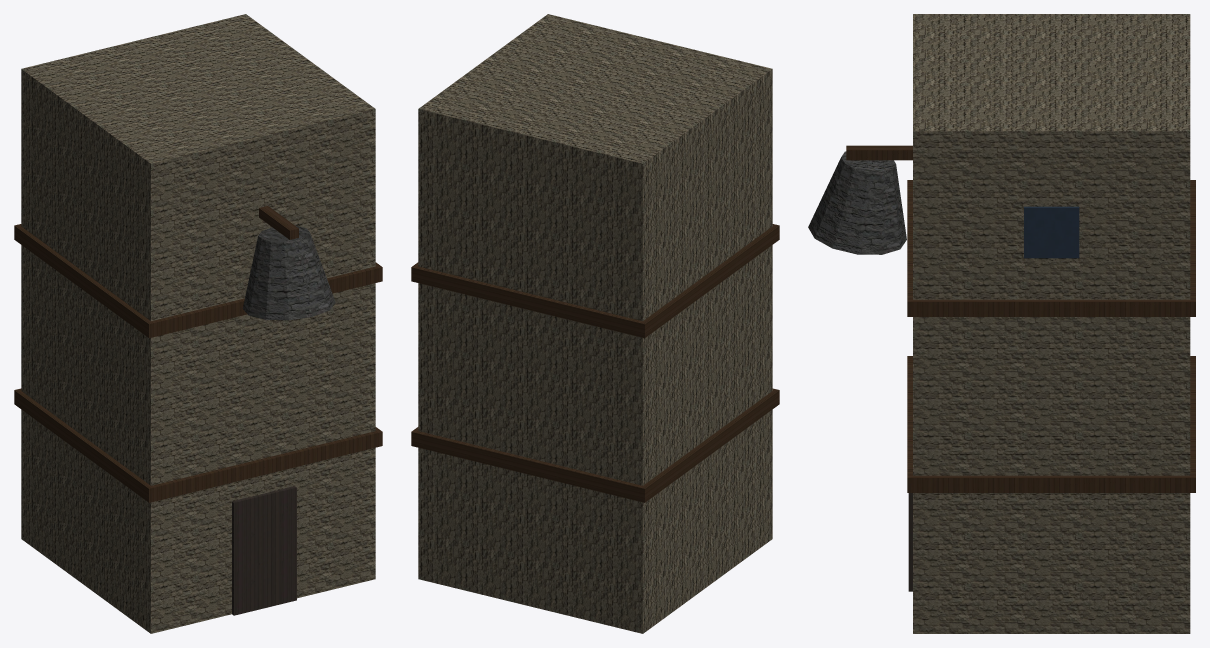
The model's file is bell_tower_01.glb.
The picture shows the model from 3 angles, left to right: view 1: azimuth 30°, elevation 25°; view 2: azimuth 150°, elevation 25°; view 3: azimuth 270°, elevation 25°; orthographic projection. The views are drawn at different scales.
Parts seen in each view (by area): view 1: bell_tower_01; view 2: bell_tower_01; view 3: bell_tower_01.
Part boxes in pixels (bbox=[...]): bell_tower_01: bbox=[14, 14, 382, 633]; bell_tower_01: bbox=[411, 14, 779, 633]; bell_tower_01: bbox=[808, 14, 1195, 633].
Bounding box in the file's own units: 5.2 × 10 × 6.99.
5 materials, 5 textured.
